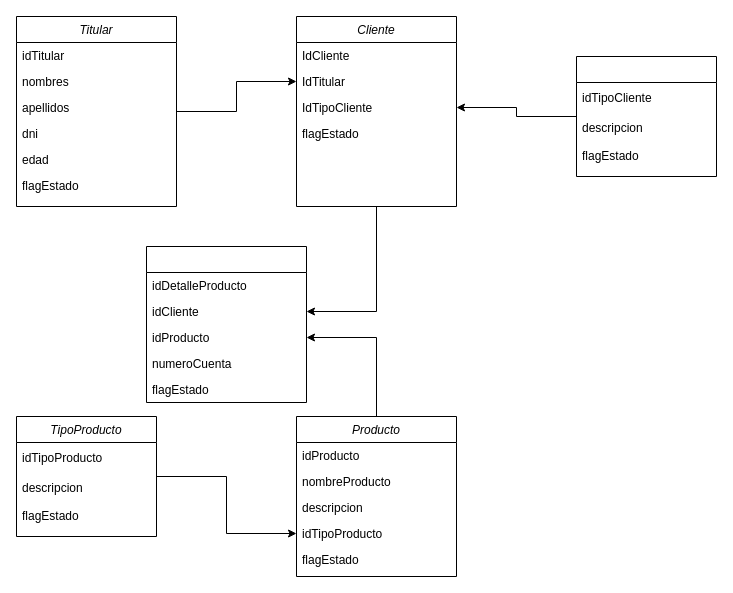
Some shapes in this 733 by 593 pixel diagram are drawn without their labels. The shapes that lost their labels are listed below. From the top down, each one's box as (x1, y1, x2, y2) in pixels, then its label:
(576, 56, 716, 176): TipoCiente
(146, 246, 306, 402): detalleProductoCliente
